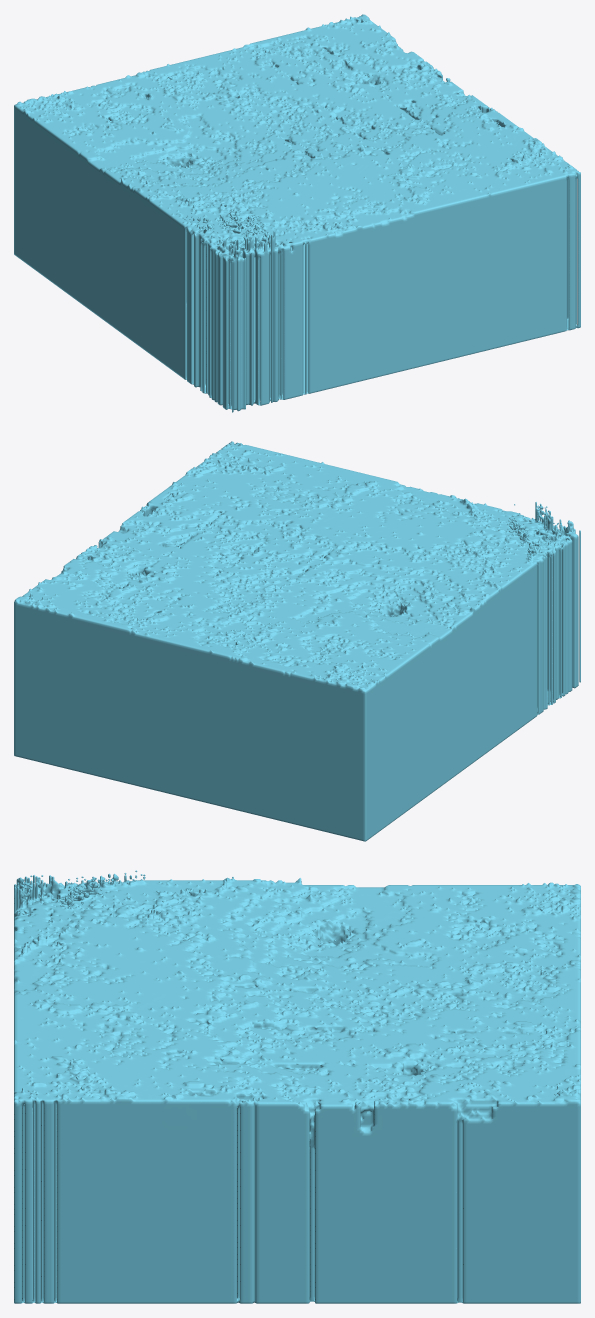
The model's file is southeast-collision.glb.
3 views of the same model, one above another, from view 1: azimuth 30°, elevation 25°; view 2: azimuth 150°, elevation 25°; view 3: azimuth 270°, elevation 25° (orthographic). The views are drawn at different scales.
Visible parts, largest first — view 1: Collision mesh; view 2: Collision mesh; view 3: Collision mesh.
Part boxes in pixels (box(x1,y1,x2,y2)): Collision mesh: box(14, 14, 580, 412); Collision mesh: box(14, 441, 580, 841); Collision mesh: box(14, 870, 580, 1303).
Size of the model in its own units: 19.7 by 9.25 by 21.1.
